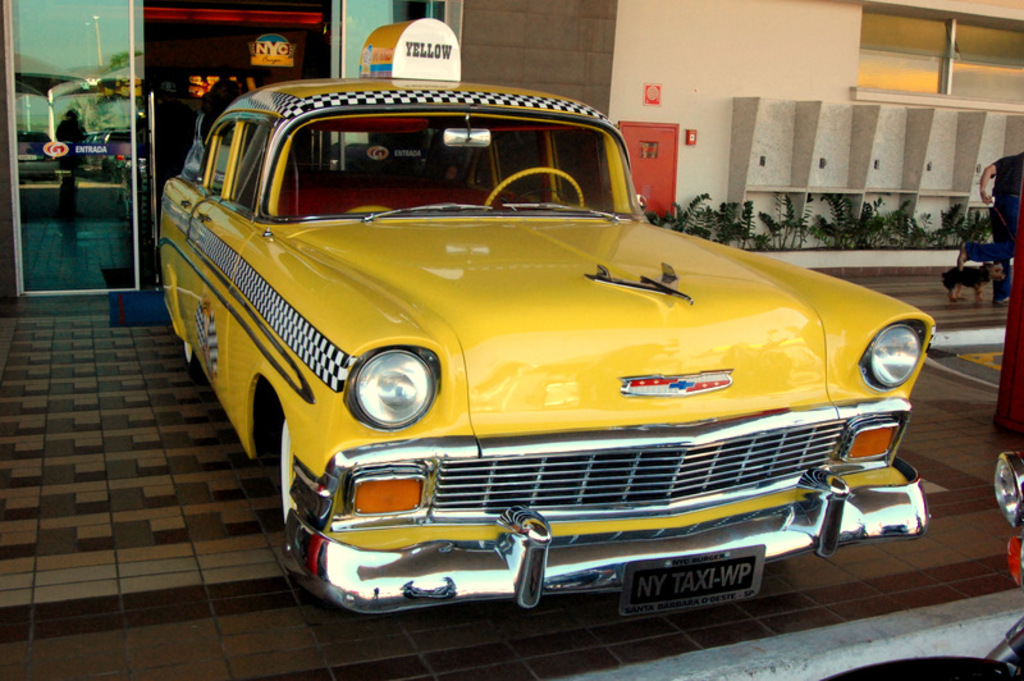Car: (158, 79, 938, 609)
